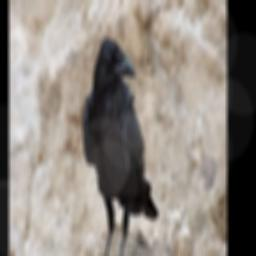Crow: (82, 36, 158, 256)
